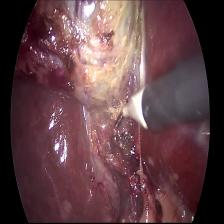Hook: (112, 83, 152, 145)
